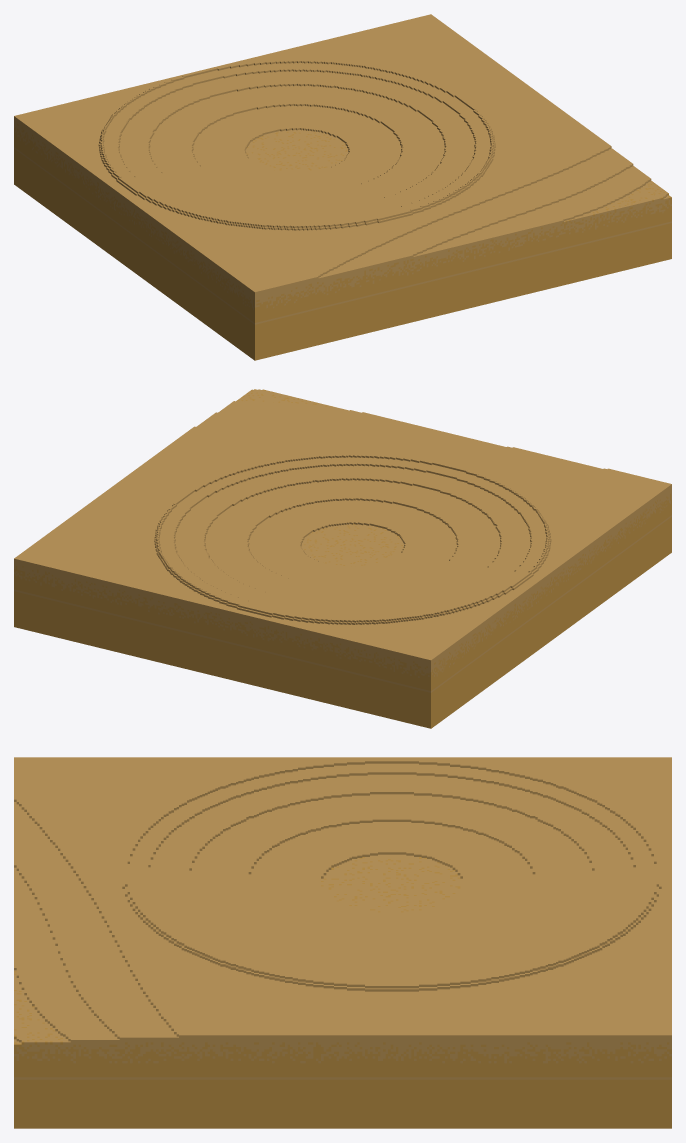
Rendered from Marte-6.obj.
The picture shows the model from 3 angles, top to bottom: view 1: azimuth 30°, elevation 25°; view 2: azimuth 150°, elevation 25°; view 3: azimuth 270°, elevation 25°; orthographic projection. The views are drawn at different scales.
Size of the model in its own units: 25.5 by 4.2 by 25.5.
Materials: 1 (1 with a texture image).
